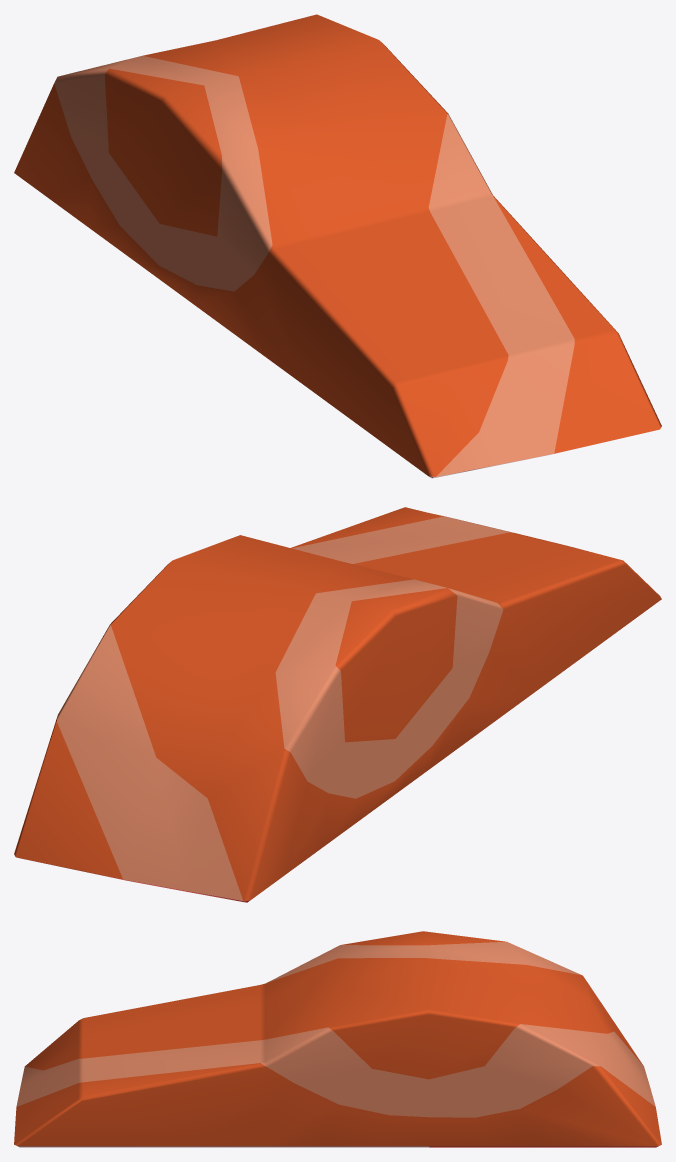
Rendered from Salmon_3_Fillet_2.fbx.
The picture shows the model from 3 angles, top to bottom: view 1: azimuth 30°, elevation 25°; view 2: azimuth 150°, elevation 25°; view 3: azimuth 270°, elevation 25°; orthographic projection. The views are drawn at different scales.
Visible parts, largest first — view 1: Salmon_3_Fillet_2; view 2: Salmon_3_Fillet_2; view 3: Salmon_3_Fillet_2.
Boxes of the visible parts, x1=… form: Salmon_3_Fillet_2: x1=14, y1=14, x2=661, y2=478; Salmon_3_Fillet_2: x1=14, y1=507, x2=661, y2=902; Salmon_3_Fillet_2: x1=14, y1=931, x2=661, y2=1147.
Size of the model in its own units: 12.98 by 10.27 by 43.58.
